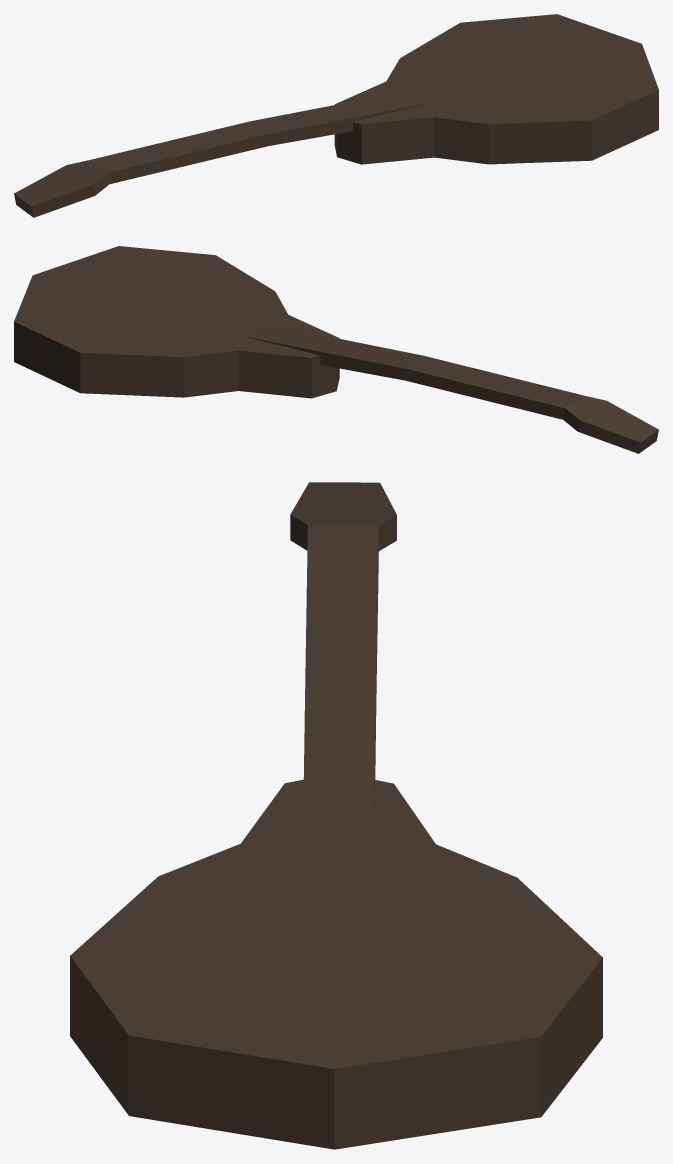
Rendered from ITMI_LUTE.OBJ.
3 renders of one model, top to bottom at view 1: azimuth 30°, elevation 25°; view 2: azimuth 150°, elevation 25°; view 3: azimuth 270°, elevation 25°, orthographic. The views are drawn at different scales.
Parts seen in each view (by area): view 1: ITMI_LUTE; view 2: ITMI_LUTE; view 3: ITMI_LUTE.
Boxes of the visible parts, <box> form: ITMI_LUTE: <box>14,14,658,217</box>; ITMI_LUTE: <box>14,246,658,453</box>; ITMI_LUTE: <box>70,482,602,1149</box>.
Size of the model in its own units: 1.11 by 0.0826 by 0.4138.
